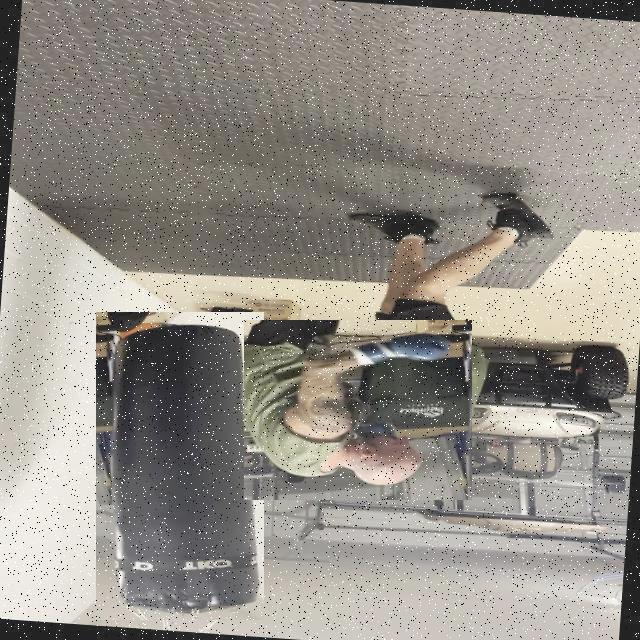punch: (244, 320, 472, 500)
